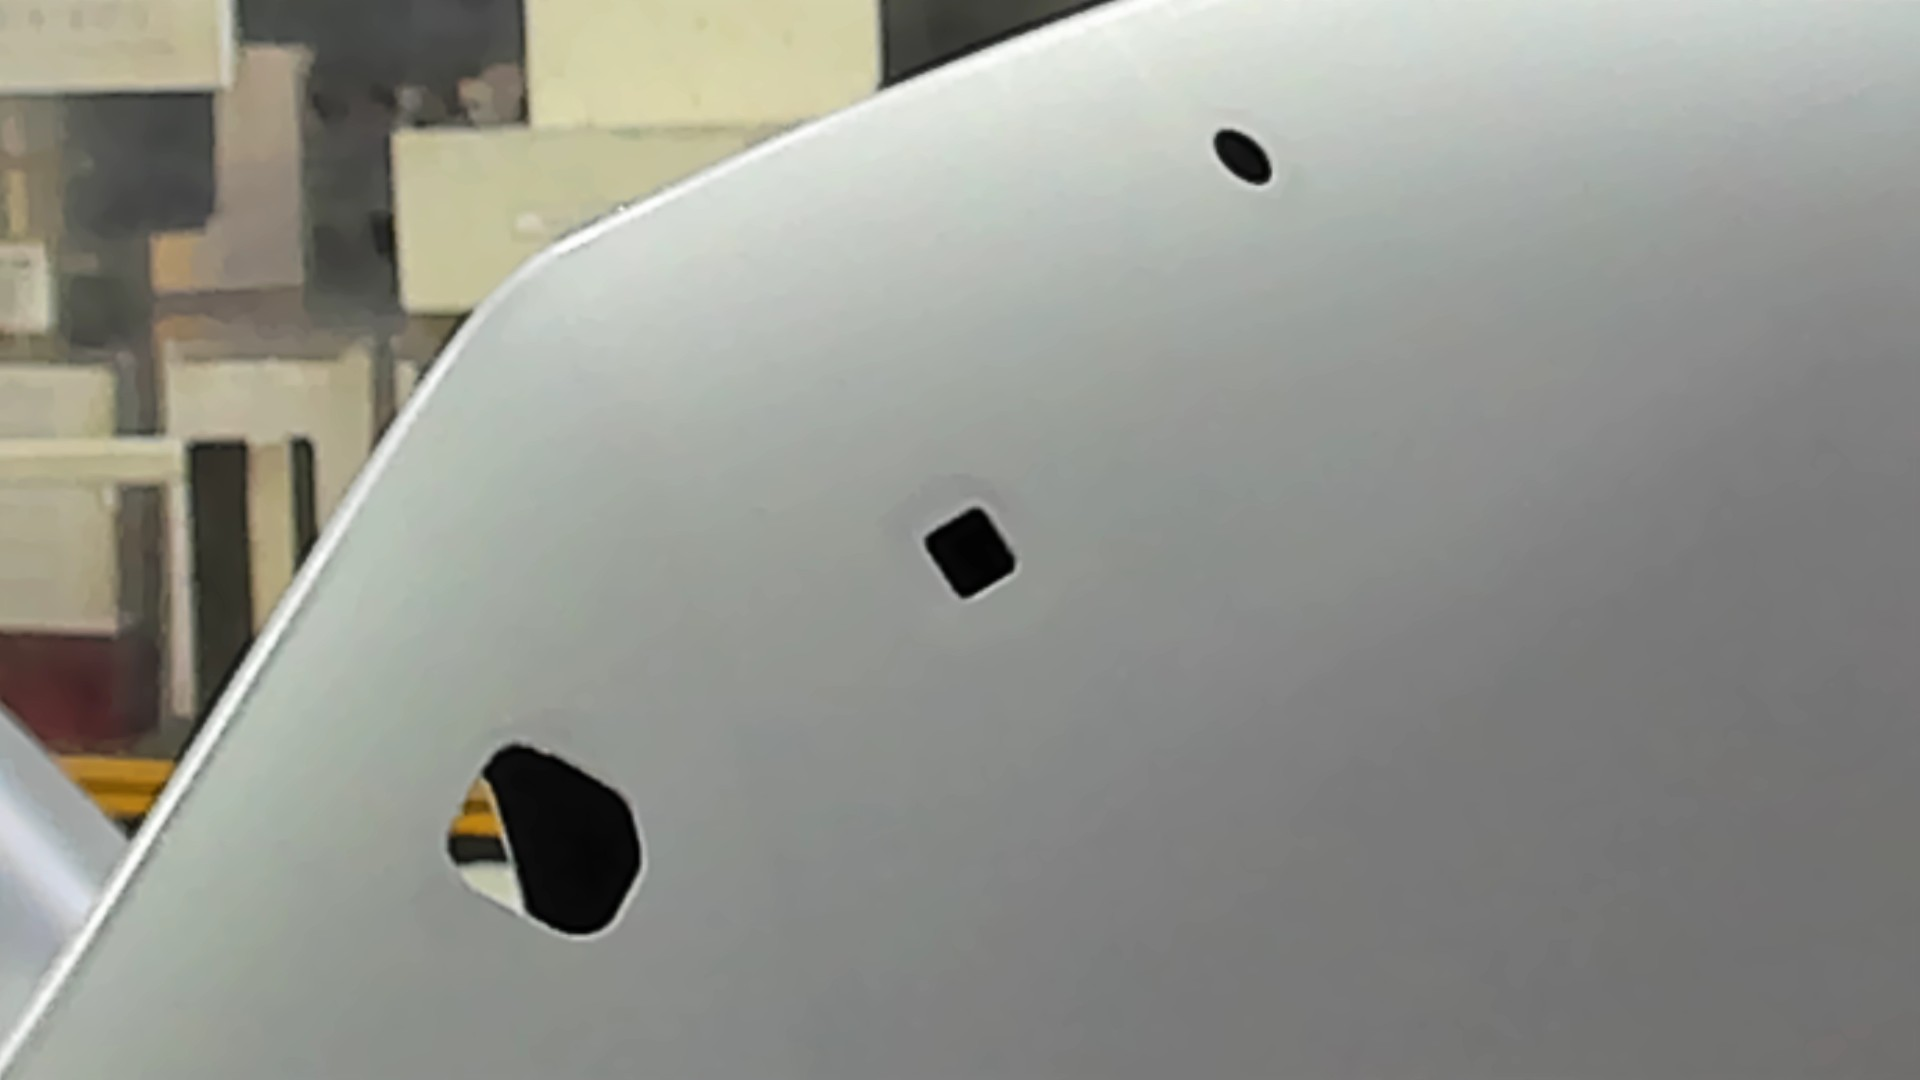capo: (1048, 200, 1920, 1080)
chico: (1209, 120, 1276, 190)
grande: (436, 732, 650, 948)
mediano: (919, 495, 1023, 611)
